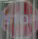Stop: (3, 4, 35, 38)
